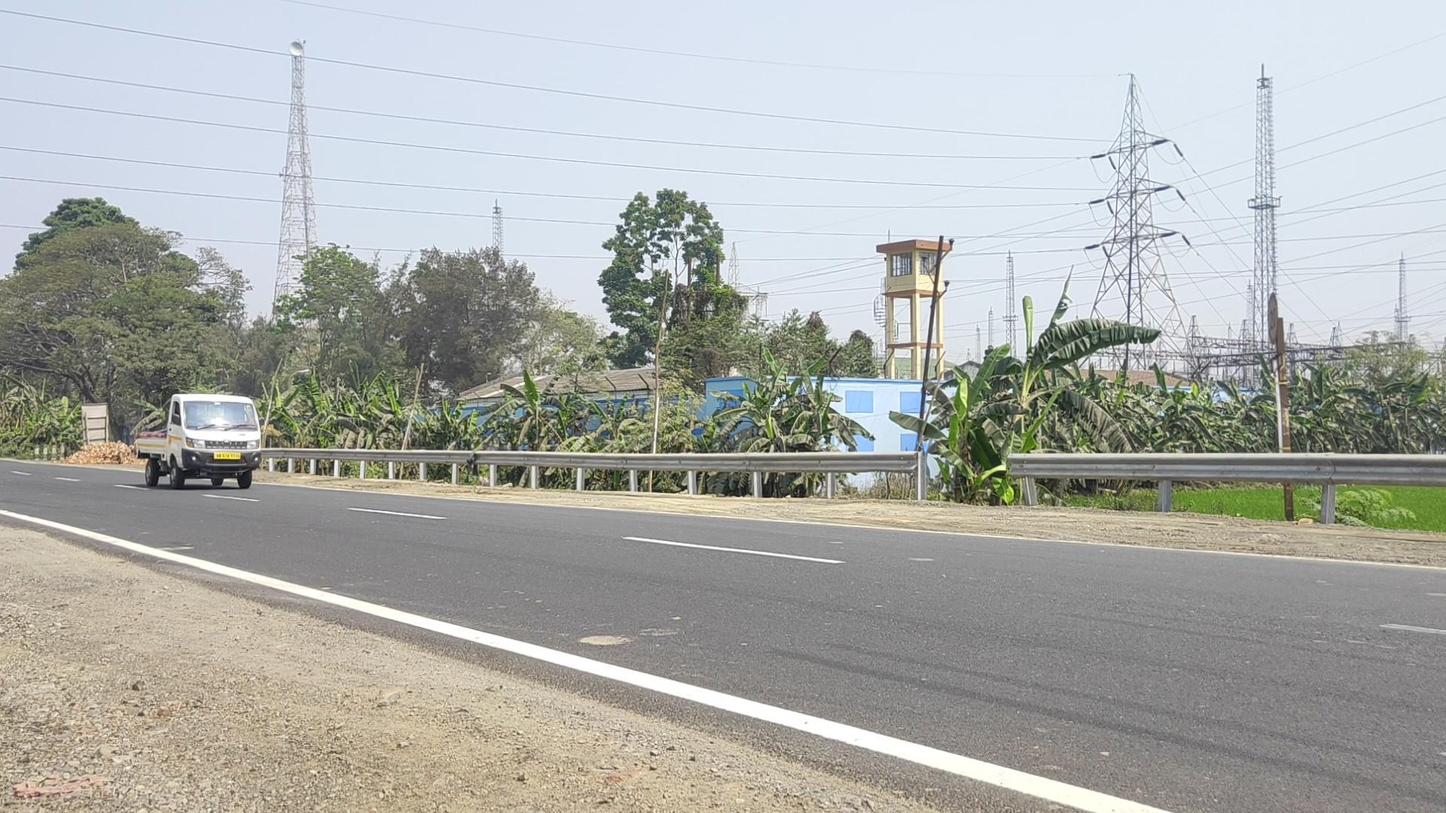van: (136, 393, 262, 489)
